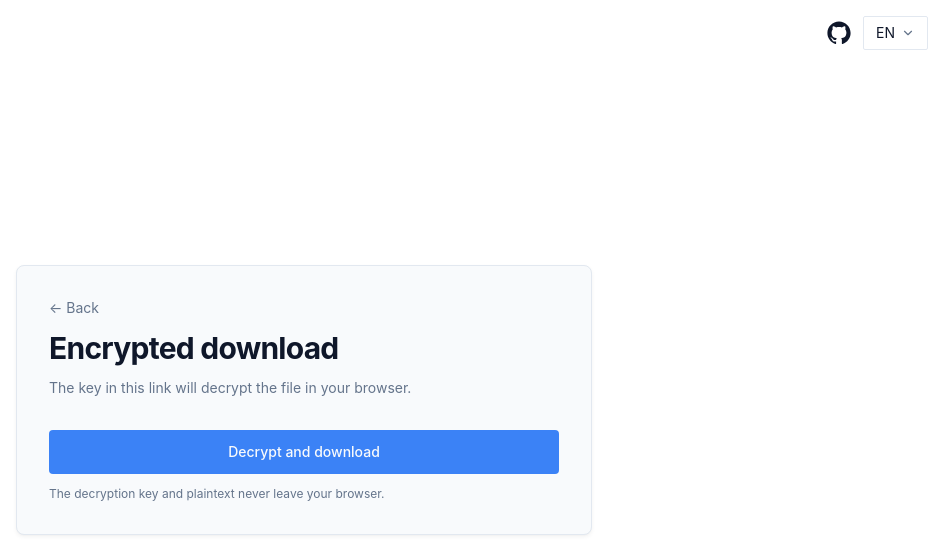
Test: encrypted download page › fetches without the fragment, decrypts, and saves with private metadata
Click the button "Decrypt and download" at {"x": 304, "y": 452}, box [49,430,559,474]
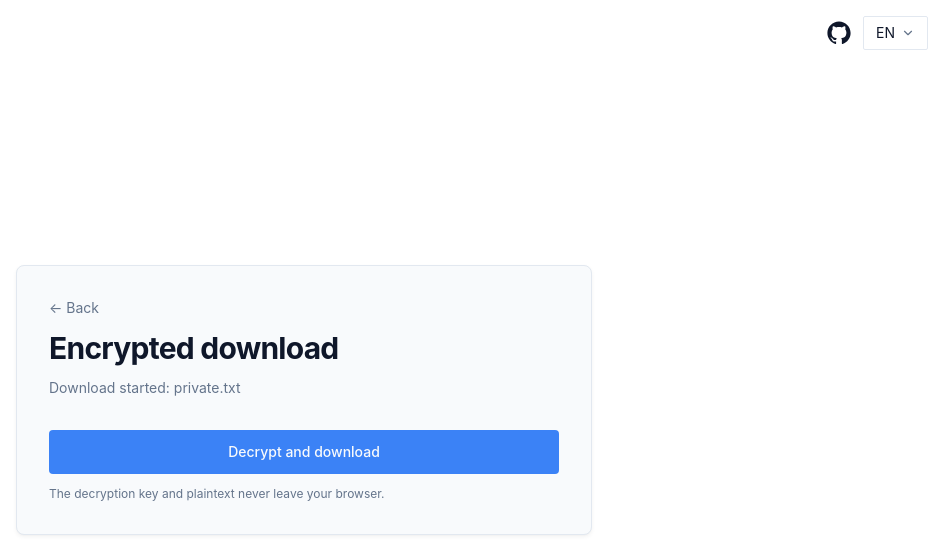
Now the text "Download started: private.txt" is shown, box [49,379,241,396]
